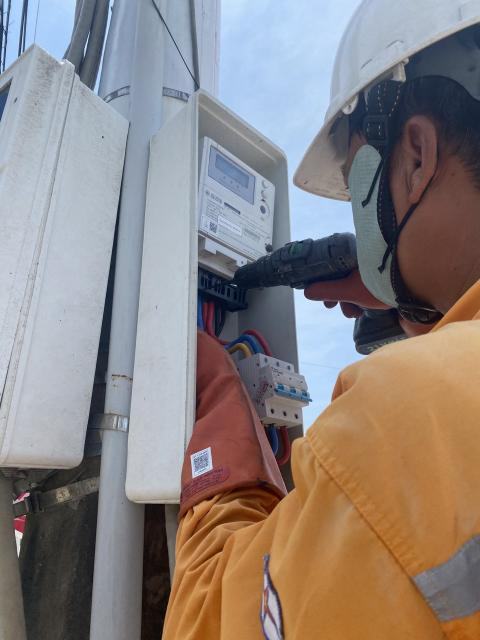gloves: (170, 318, 293, 550), (274, 252, 462, 364)
helmet: (280, 0, 480, 230)
